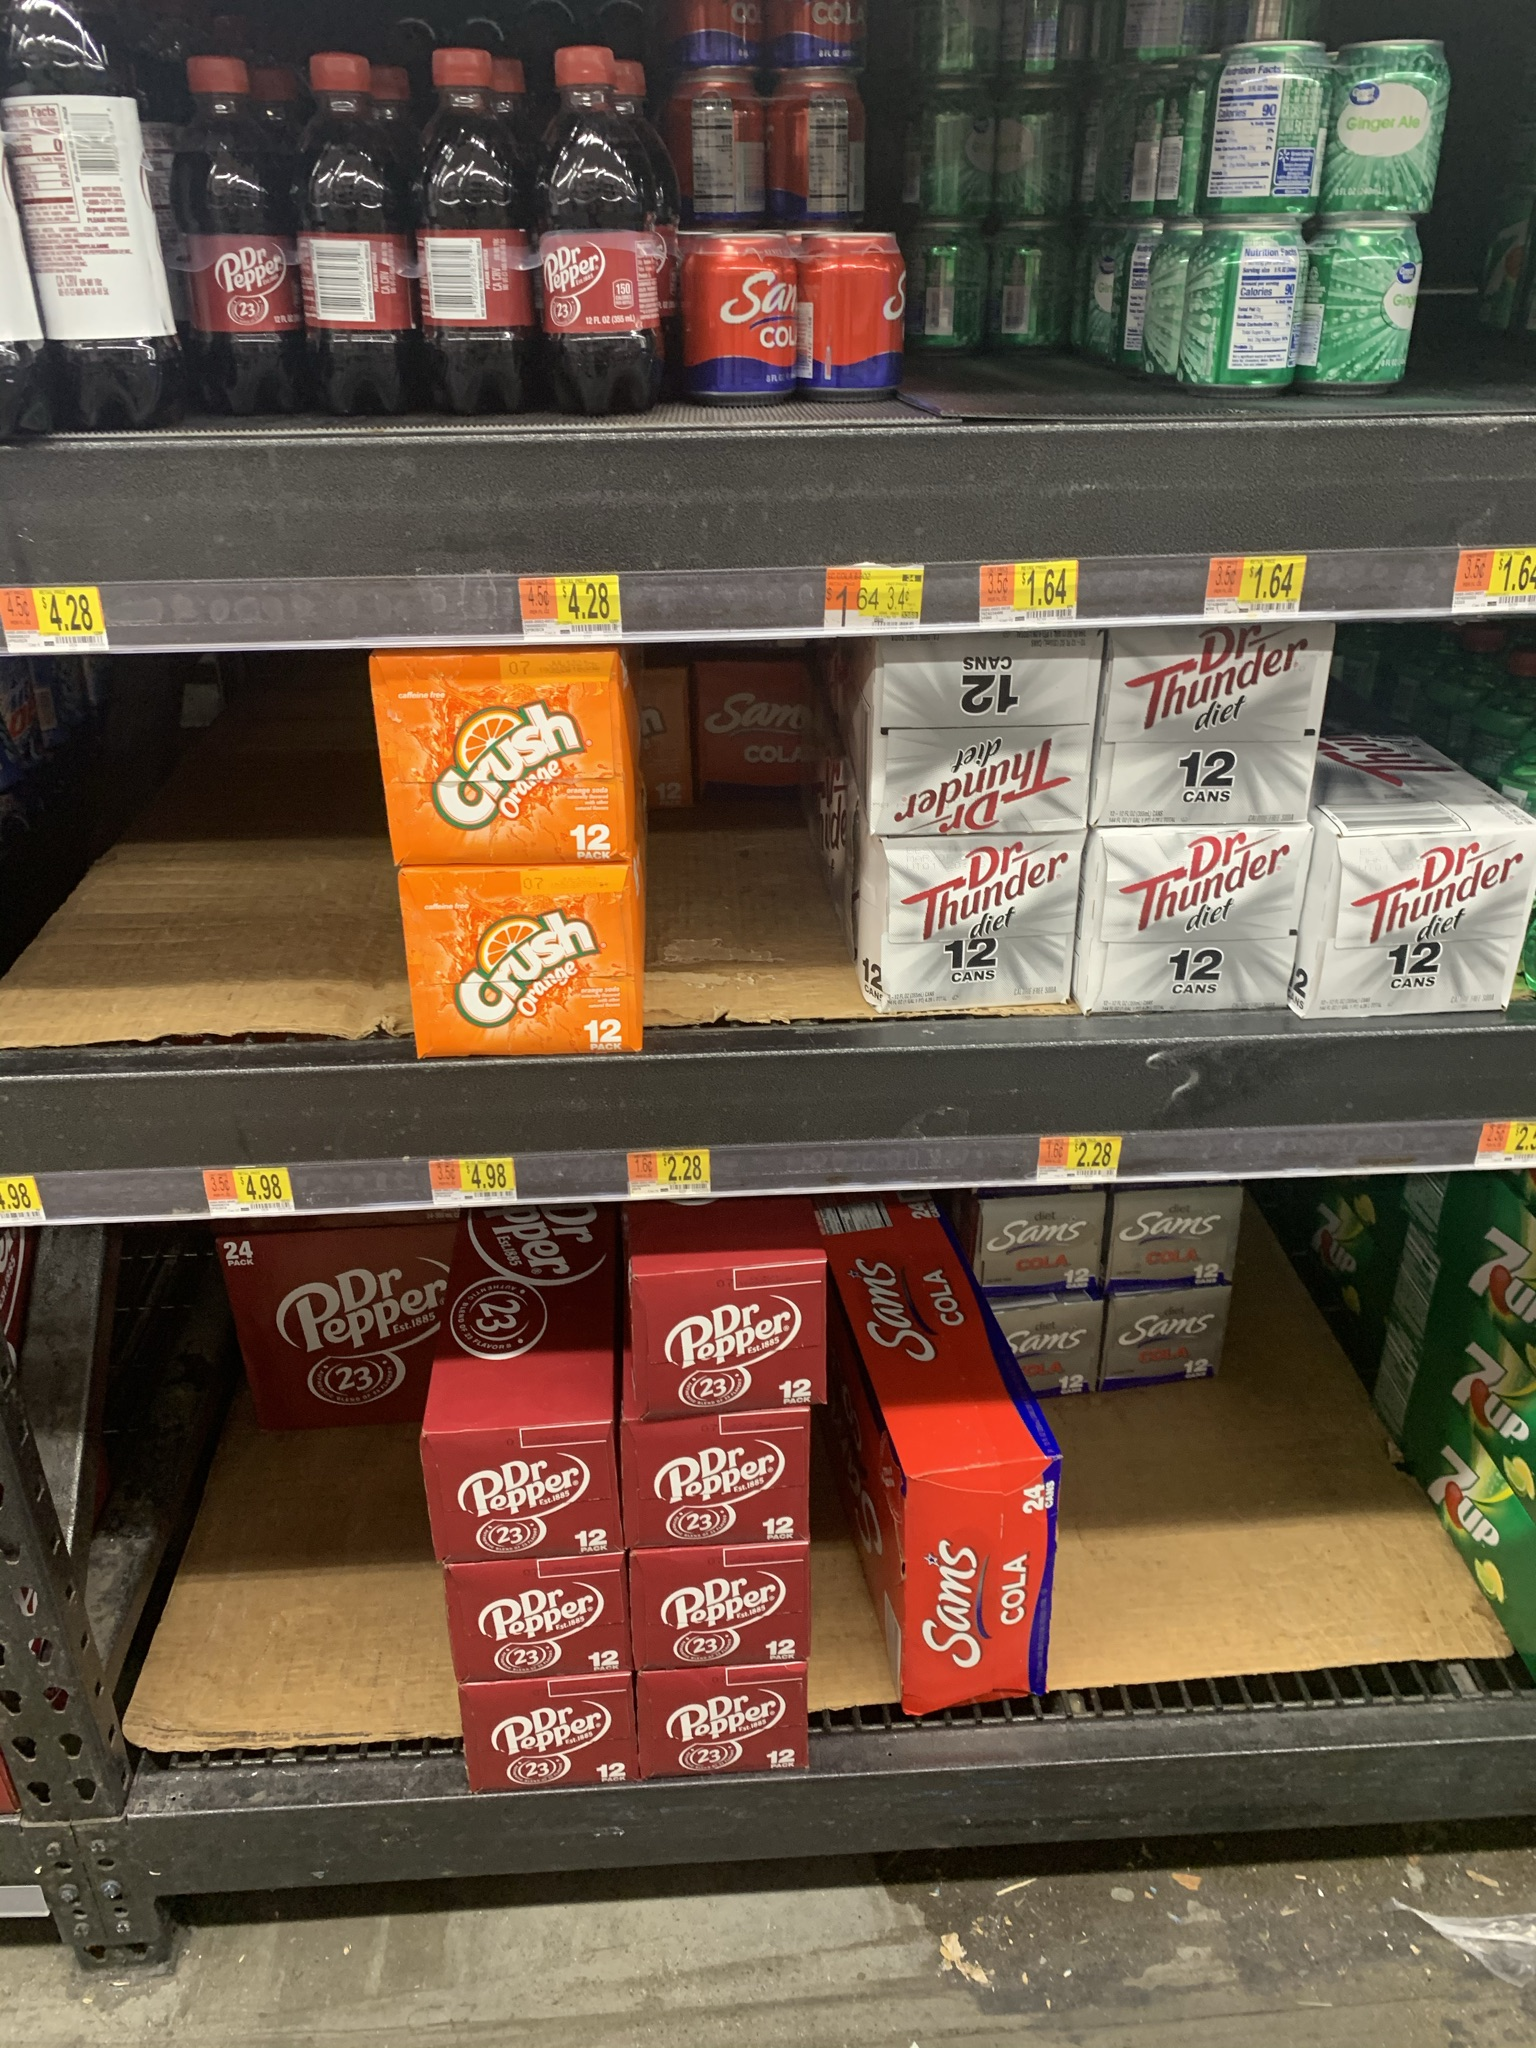box: (378, 655, 628, 864), (397, 863, 642, 1059), (873, 640, 1087, 834), (1100, 626, 1317, 818), (1087, 822, 1300, 1013), (1326, 827, 1530, 1016), (883, 827, 1075, 1009), (908, 1471, 1049, 1713), (628, 1268, 826, 1416), (257, 1251, 424, 1417), (419, 1438, 615, 1563), (624, 1422, 808, 1543), (449, 1563, 629, 1685), (458, 1685, 634, 1793), (636, 1559, 816, 1663), (642, 1672, 812, 1777), (1000, 1208, 1092, 1293), (1125, 1205, 1221, 1276), (1126, 1306, 1220, 1376), (1025, 1326, 1092, 1392)
can: (673, 224, 805, 405), (1334, 34, 1446, 218), (1218, 40, 1328, 223), (1192, 214, 1307, 389), (800, 227, 908, 405), (1320, 216, 1420, 389), (678, 94, 765, 210), (787, 87, 863, 206), (921, 103, 991, 214), (921, 242, 984, 347), (1016, 110, 1066, 214), (1013, 247, 1063, 352)
